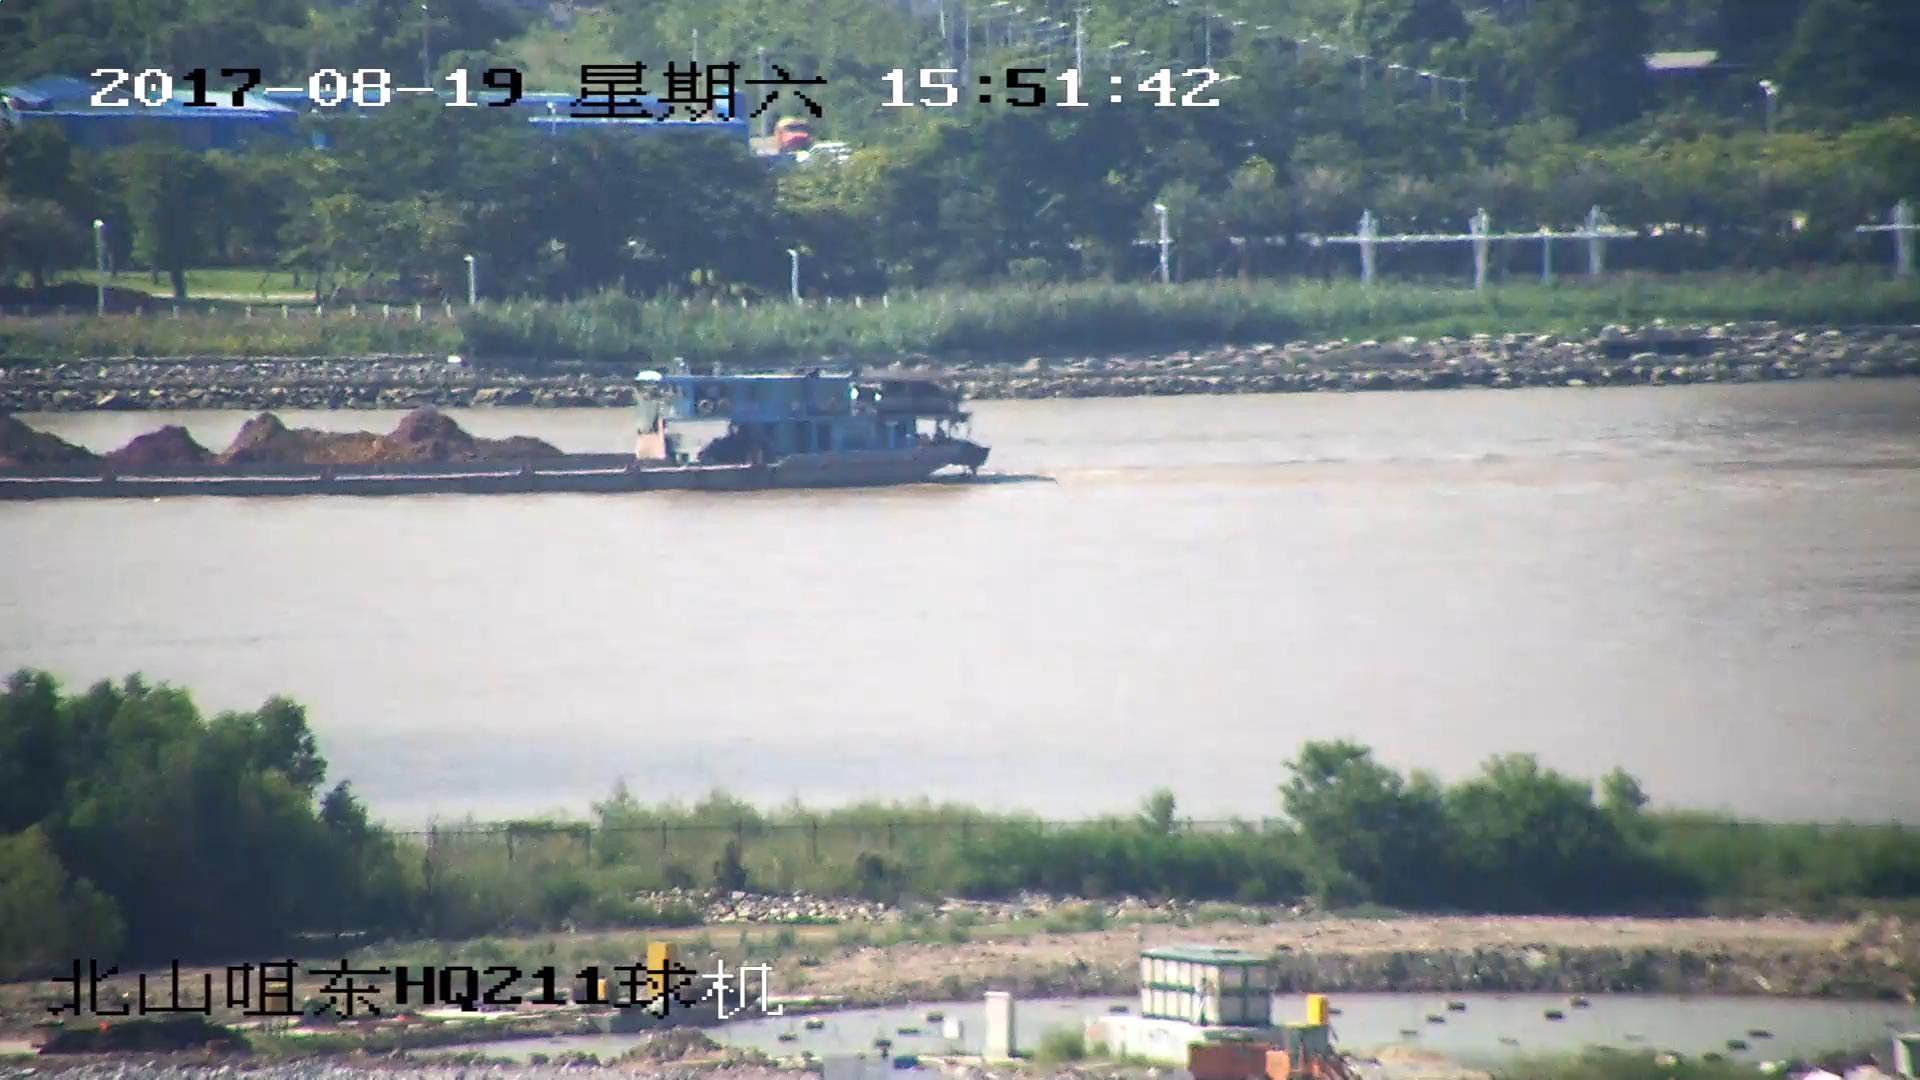Ship: (3, 363, 996, 498)
